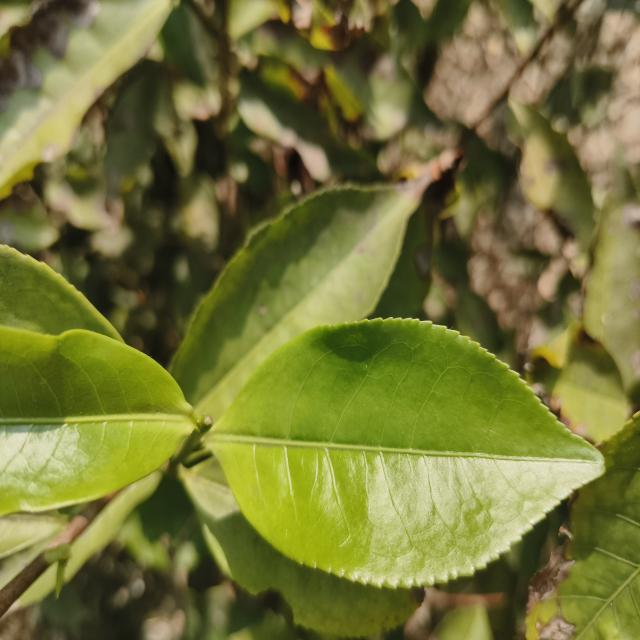Leaf: (208, 319, 604, 587), (172, 183, 423, 418), (180, 458, 417, 637), (0, 326, 195, 515), (0, 0, 177, 199), (526, 412, 640, 640), (584, 161, 640, 405), (525, 322, 631, 444)
